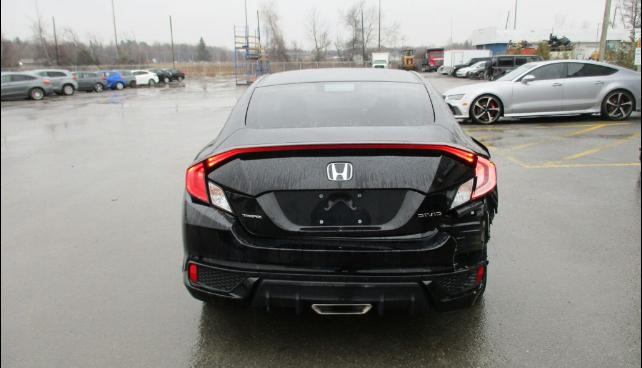Broken part: (181, 187, 499, 275), (470, 136, 491, 158), (474, 150, 493, 162)
Missing part: (286, 190, 404, 229)
